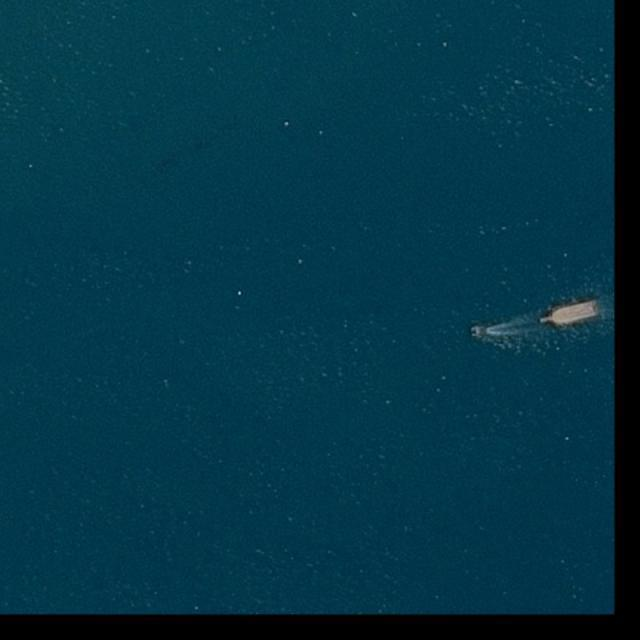ship: (538, 298, 602, 330), (470, 328, 487, 334)
